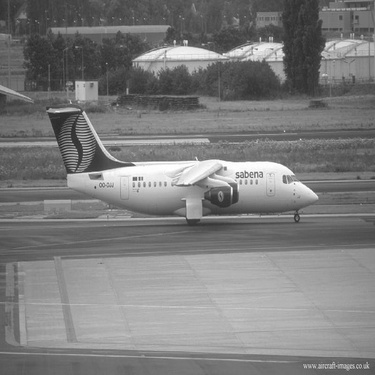airplane: (35, 98, 323, 233)
